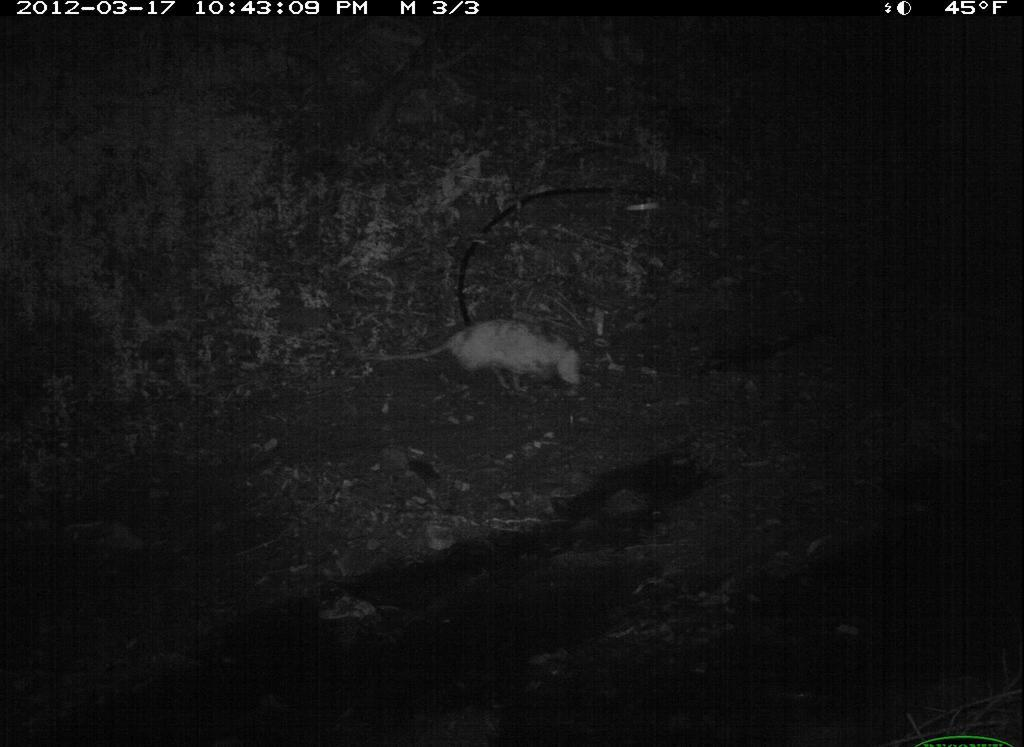opossum: (373, 310, 619, 423)
